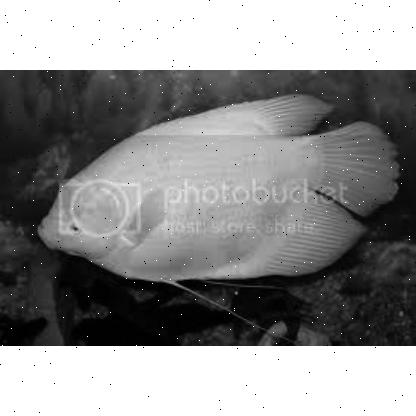gurame: (41, 99, 398, 274)
